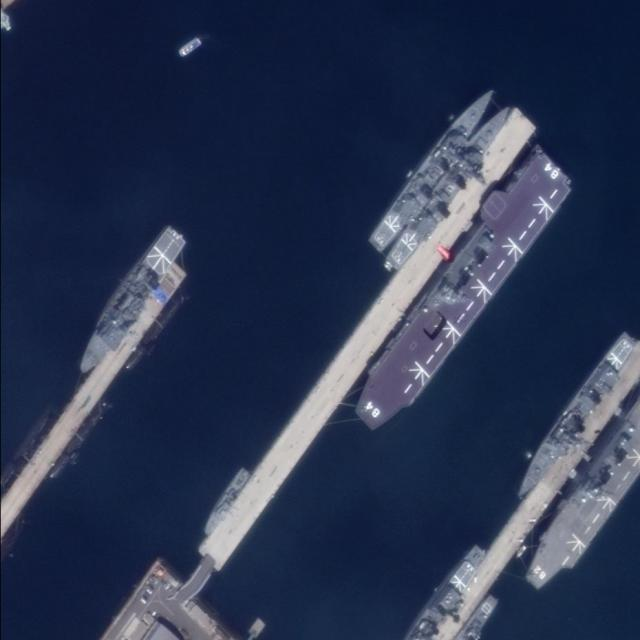Destroyer: (339, 145, 579, 438), (382, 97, 515, 272), (507, 329, 639, 505), (363, 85, 498, 254)
Dock: (178, 109, 540, 596)
Landing: (63, 223, 191, 380)
Other Ship: (177, 37, 203, 59)
Other Warship: (196, 467, 253, 537)
Submarine: (45, 398, 110, 479), (123, 293, 186, 372)
